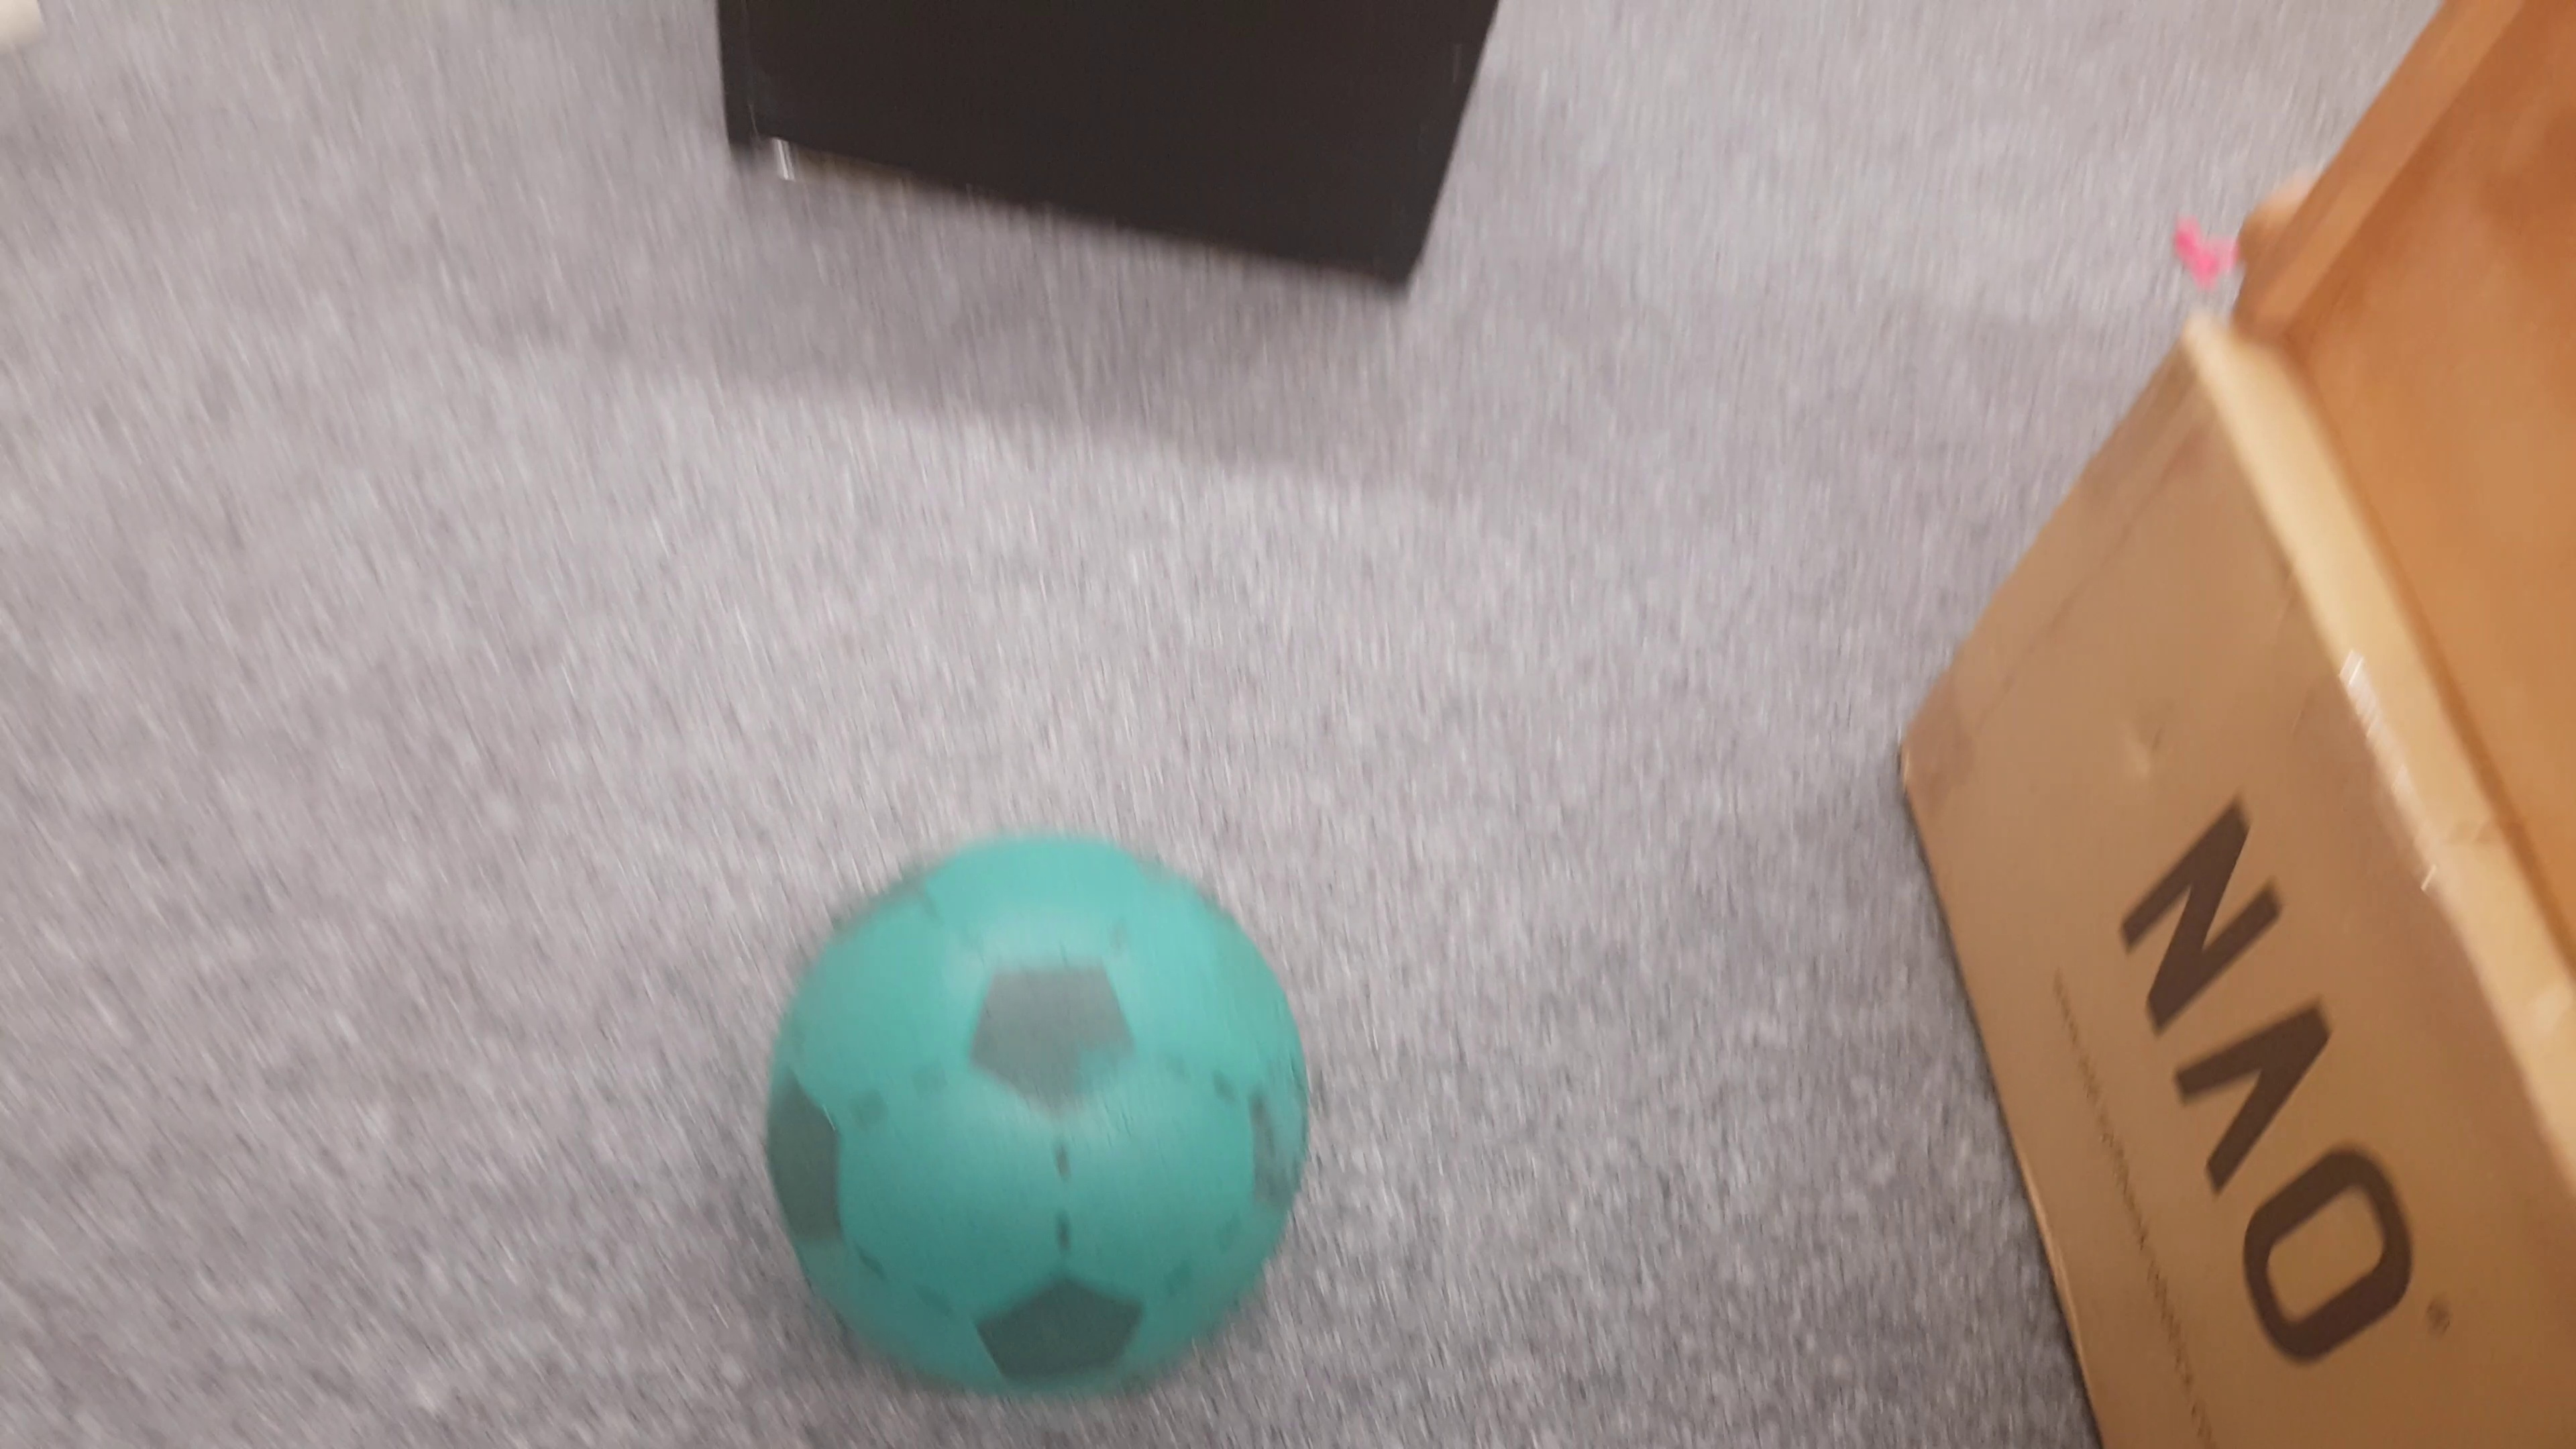kick: (771, 830, 1306, 1384)
push: (709, 0, 1513, 304)
